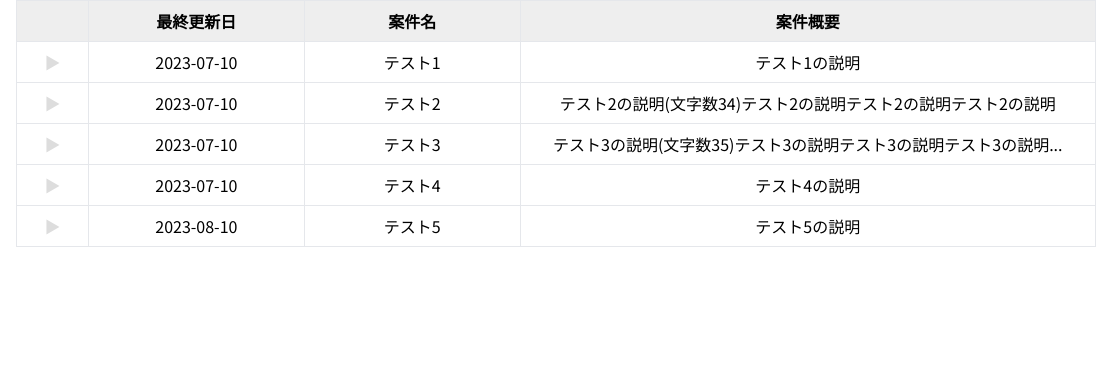
Test: 管理者/履歴一覧画面のテスト › HistoriesListコンポーネントテスト › 回答の状態に合わせて表示が変わる
Click the button with test id "open_1": [52, 62] box [44,50,60,74]
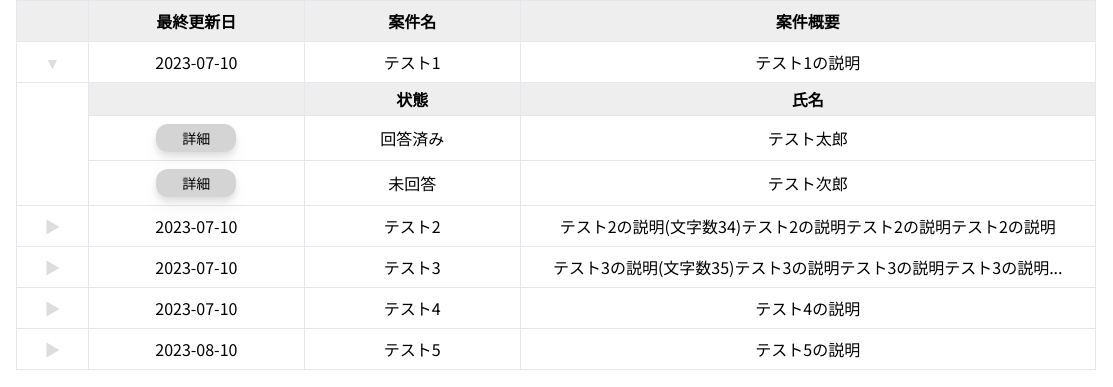
Now the cell with test id "status_1" reads "回答済み", box [380,126,444,150]
Now the cell with test id "status_2" reads "未回答", box [388,171,436,195]
